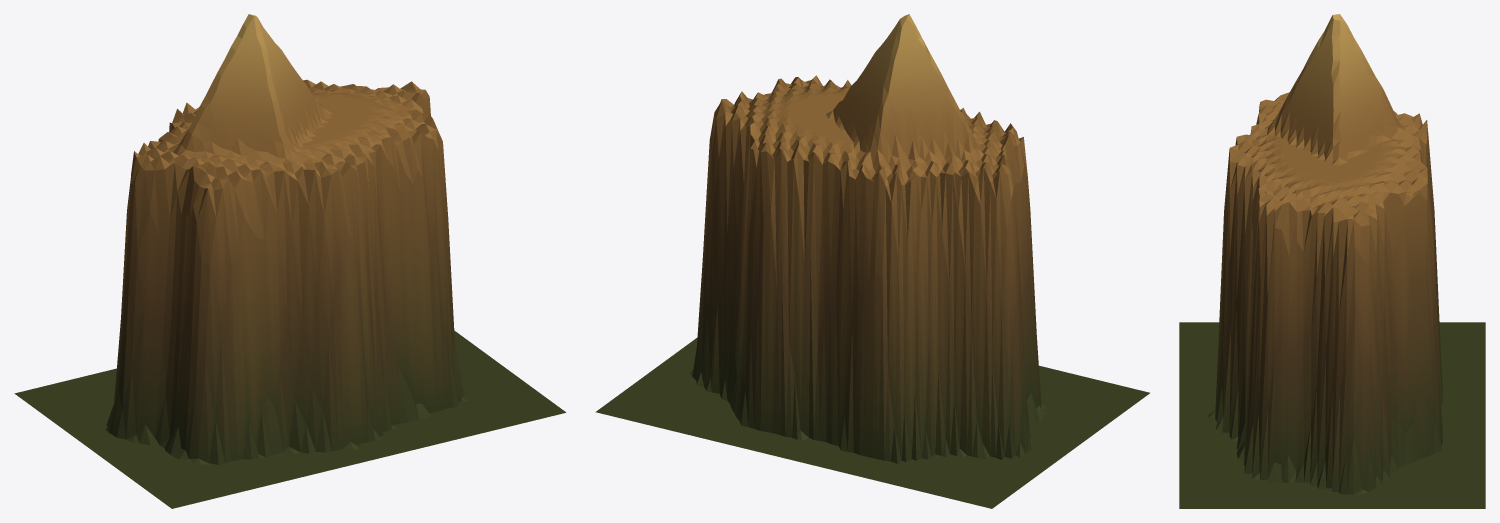
The model's file is Cliff_Large.fbx.
The picture shows the model from 3 angles, left to right: view 1: azimuth 30°, elevation 25°; view 2: azimuth 150°, elevation 25°; view 3: azimuth 270°, elevation 25°; orthographic projection. The views are drawn at different scales.
Parts seen in each view (by area): view 1: Cliff_Large; view 2: Cliff_Large; view 3: Cliff_Large.
Boxes of the visible parts, <box> form: Cliff_Large: <box>14,14,565,508</box>; Cliff_Large: <box>595,14,1149,508</box>; Cliff_Large: <box>1179,14,1485,508</box>.
Size of the model in its own units: 2600 by 2490 by 1800.
